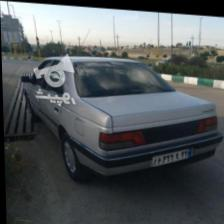plate: (150, 142, 192, 169)
